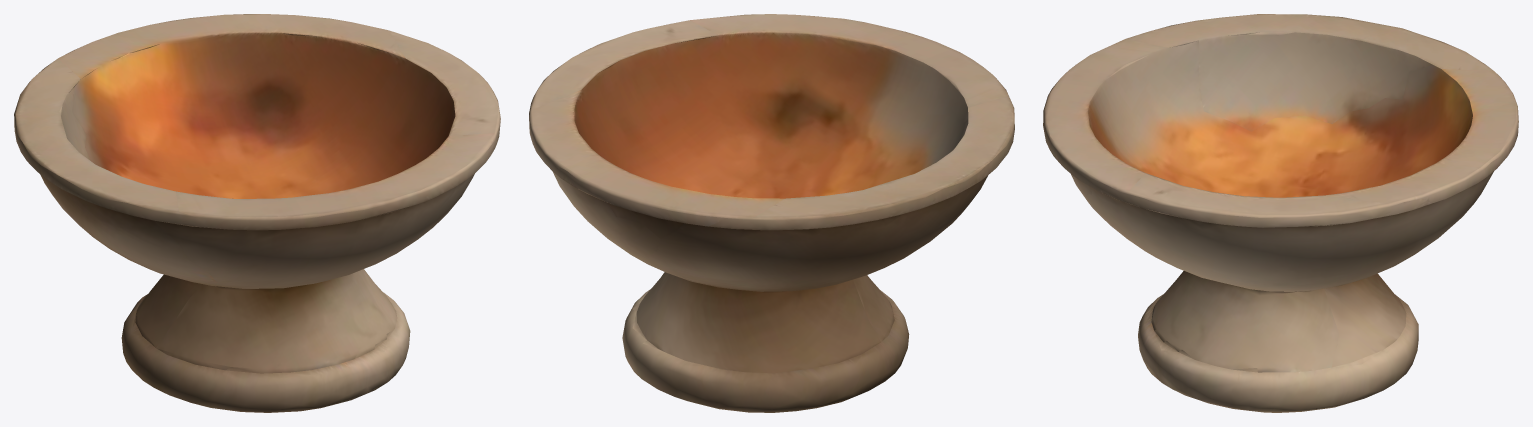
The model's file is m2StoneBrazier.glb.
3 renders of one model, left to right at view 1: azimuth 30°, elevation 25°; view 2: azimuth 150°, elevation 25°; view 3: azimuth 270°, elevation 25°, orthographic.
Visible parts, largest first — view 1: model; view 2: model; view 3: model.
Part boxes in pixels (x1=…): model: x1=14, y1=14, x2=500, y2=412; model: x1=529, y1=14, x2=1014, y2=412; model: x1=1043, y1=14, x2=1518, y2=412.
Bounding box in the file's own units: 1.9 × 1.05 × 1.88.
1 material, 1 textured.
